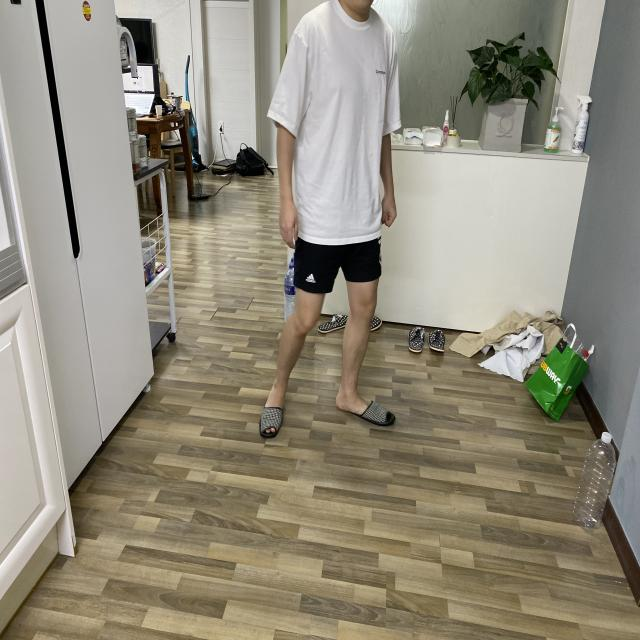no-boots: (337, 379, 398, 441), (254, 376, 293, 447)
